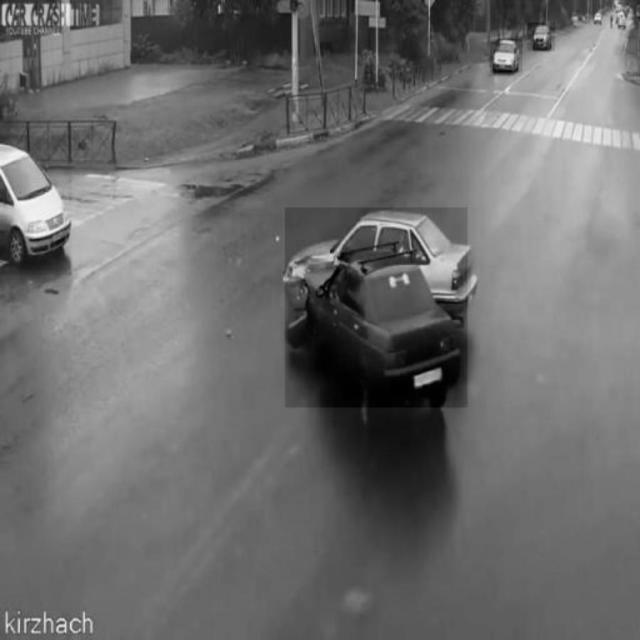accident: (285, 207, 467, 407)
vehicle: (0, 135, 71, 275), (490, 39, 524, 73), (528, 23, 555, 51)
